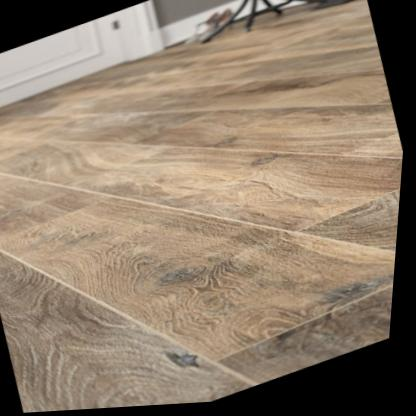Wooden floor: (0, 0, 406, 413)
